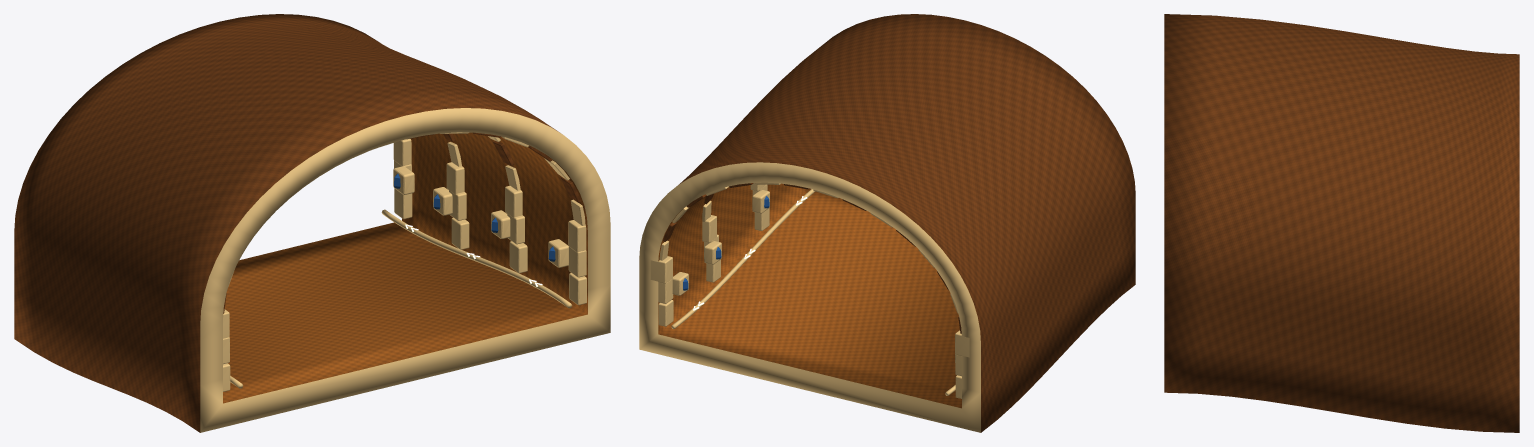
The model's file is grade_down.glb.
3 views of the same model, side by side, from view 1: azimuth 30°, elevation 25°; view 2: azimuth 150°, elevation 25°; view 3: azimuth 270°, elevation 25° (orthographic). The views are drawn at different scales.
Parts seen in each view (by area): view 1: TunnelGeometry; view 2: TunnelGeometry; view 3: TunnelGeometry.
Part boxes in pixels (x1,y1,x2,y2): TunnelGeometry: (14,14,610,432); TunnelGeometry: (639,14,1135,432); TunnelGeometry: (1164,14,1519,432).
Size of the model in its own units: 15.3 by 11.02 by 12.
Materials: 5 (2 with a texture image).
